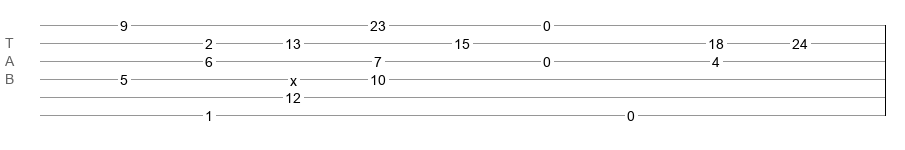0: (543, 54, 551, 64), (543, 18, 551, 28), (627, 108, 635, 118)
1: (205, 108, 213, 118)
10: (370, 72, 386, 82)
12: (285, 90, 301, 100)
13: (285, 36, 301, 46)
15: (454, 36, 470, 46)
18: (708, 36, 724, 46)
2: (205, 36, 213, 46)
23: (370, 18, 386, 28)
24: (792, 36, 808, 46)
4: (712, 54, 720, 64)
5: (120, 72, 128, 82)
6: (205, 54, 213, 64)
7: (374, 54, 382, 64)
9: (120, 18, 128, 28)
x: (290, 73, 297, 81)
